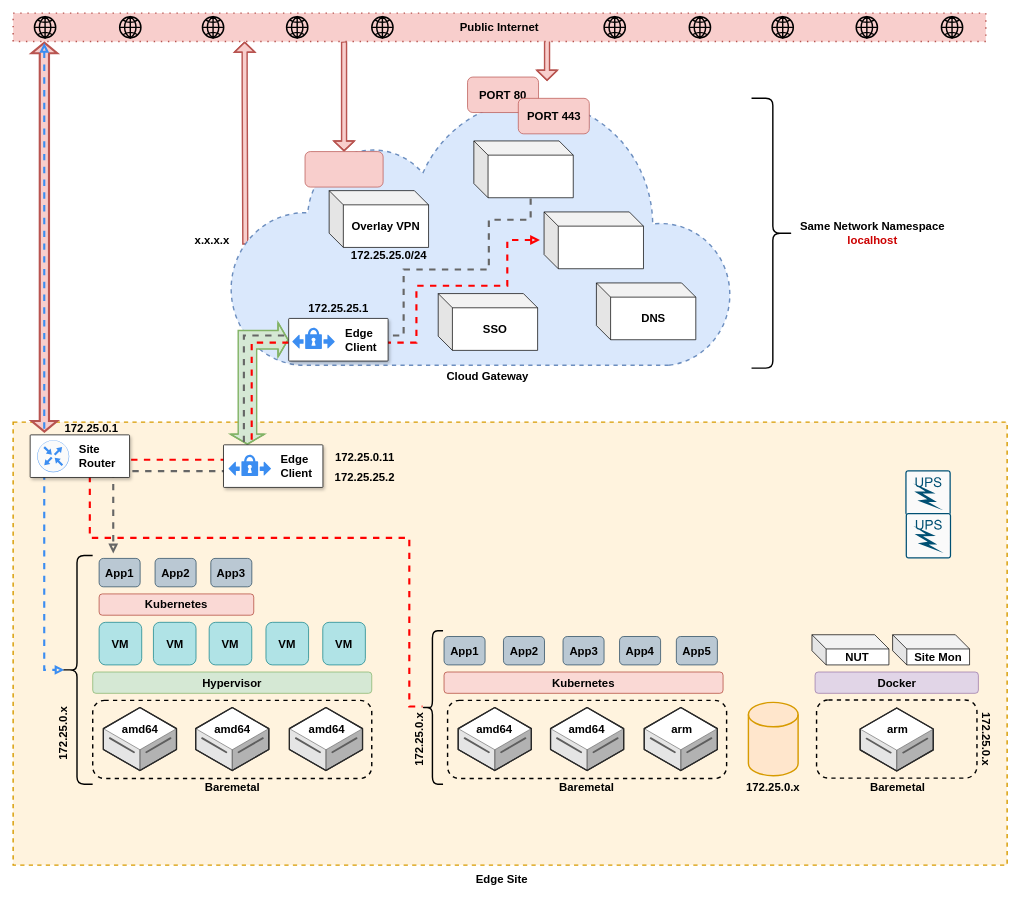
Image size: 1020x905. Some labels were removed from this diagram. Each missing label, with the centre of its shape:
"LDAP" belongs at point 593,240.
"NAS" belongs at point 772,738.
"PORT 51820" belongs at point 343,169.
"Rev. Proxy" belongs at point 523,169.
